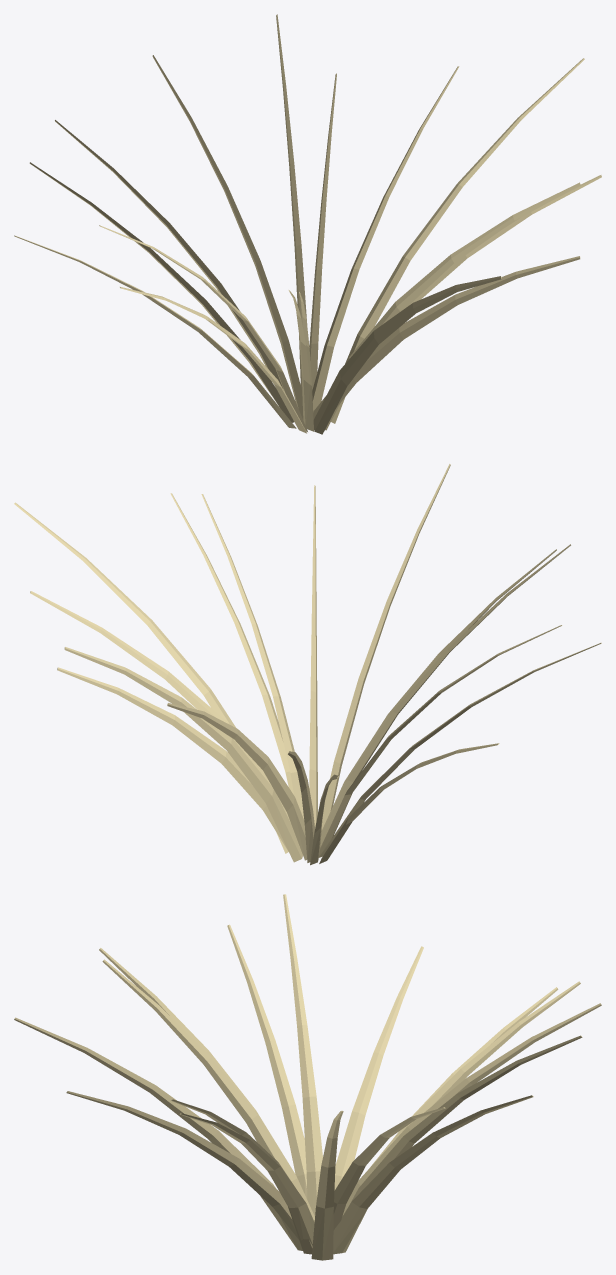
File: SM_Desert_GrassTuft_A.glb
3 views of the same model, one above another, from view 1: azimuth 30°, elevation 25°; view 2: azimuth 150°, elevation 25°; view 3: azimuth 270°, elevation 25° (orthographic). The views are drawn at different scales.
Parts seen in each view (by area): view 1: SM_Desert_GrassTuft_A; view 2: SM_Desert_GrassTuft_A; view 3: SM_Desert_GrassTuft_A.
Part boxes in pixels (bbox=[...]): SM_Desert_GrassTuft_A: bbox=[14, 14, 601, 434]; SM_Desert_GrassTuft_A: bbox=[14, 464, 601, 865]; SM_Desert_GrassTuft_A: bbox=[14, 894, 601, 1260].
Size of the model in its own units: 0.734 by 0.3852 by 0.7626.
